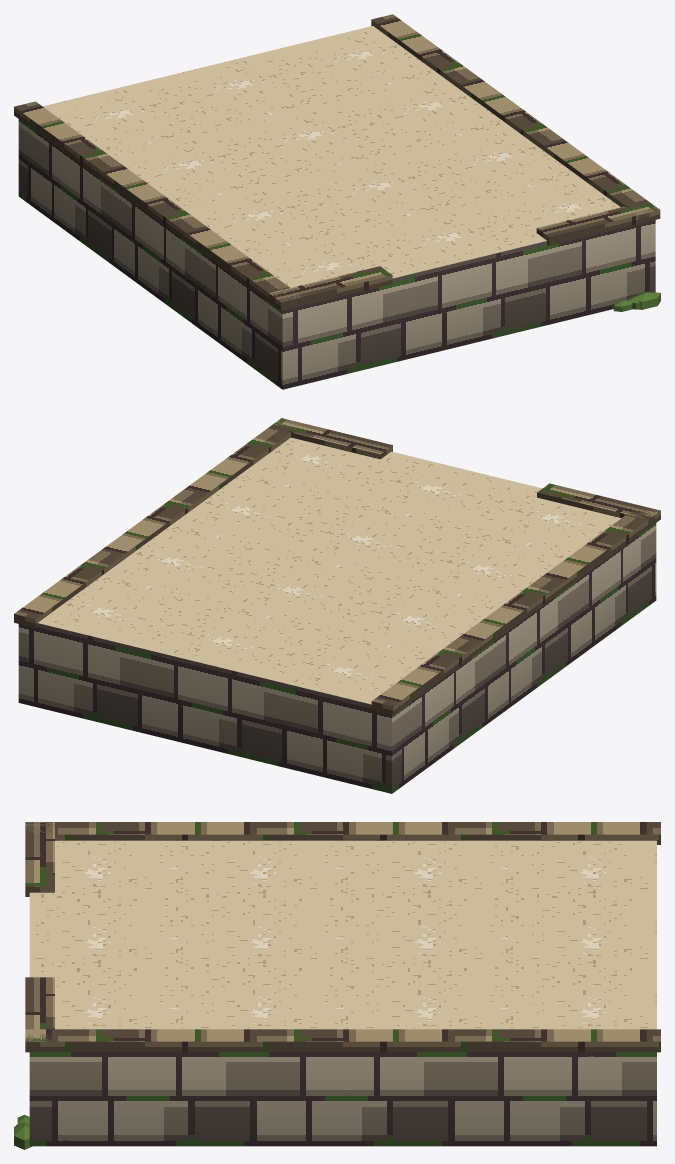
Rendered from scene_jarl_plateau.glb.
The picture shows the model from 3 angles, top to bottom: view 1: azimuth 30°, elevation 25°; view 2: azimuth 150°, elevation 25°; view 3: azimuth 270°, elevation 25°; orthographic projection. The views are drawn at different scales.
Visible parts, largest first — view 1: scene_jarl_plateau; view 2: scene_jarl_plateau; view 3: scene_jarl_plateau.
Boxes of the visible parts, x1,y1,x2,y2 form: scene_jarl_plateau: [14, 14, 660, 389]; scene_jarl_plateau: [14, 418, 660, 793]; scene_jarl_plateau: [14, 822, 660, 1149].
Bounding box in the file's own units: 6.31 × 1.51 × 7.84.
3 materials, 2 textured.
